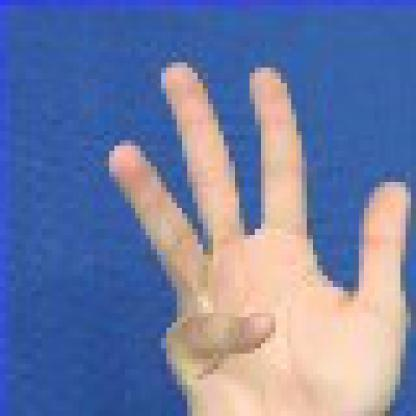nine: (83, 15, 411, 410)
